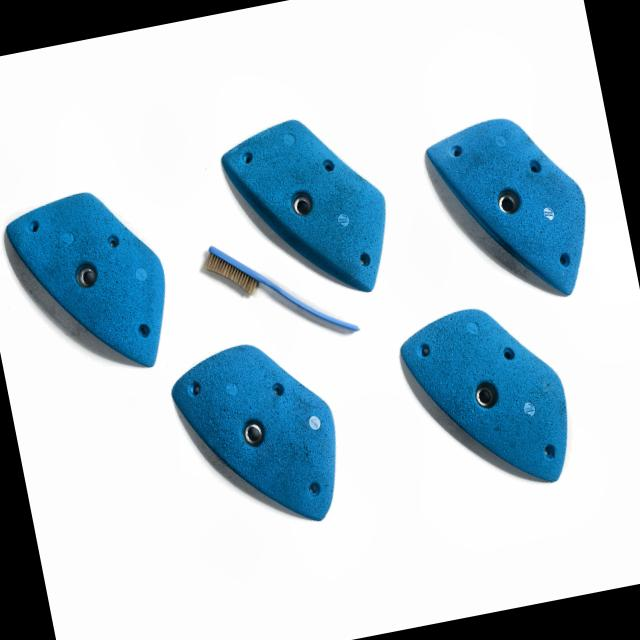Hold: (148, 328, 354, 546), (386, 289, 580, 512), (210, 102, 399, 316), (422, 96, 602, 312), (0, 184, 186, 393)
